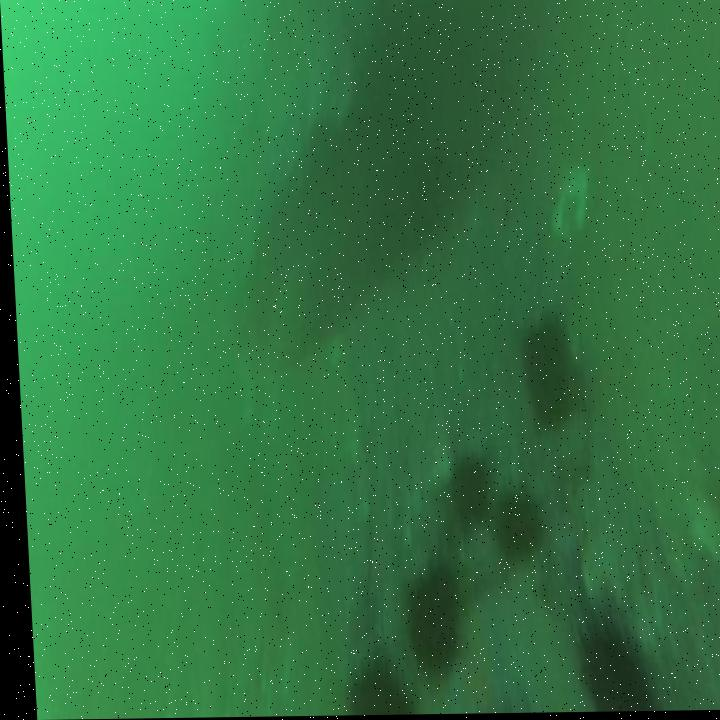echinus: (555, 588, 664, 714), (388, 546, 463, 684), (509, 308, 586, 437), (479, 479, 550, 588), (331, 629, 415, 716), (432, 434, 490, 532)
